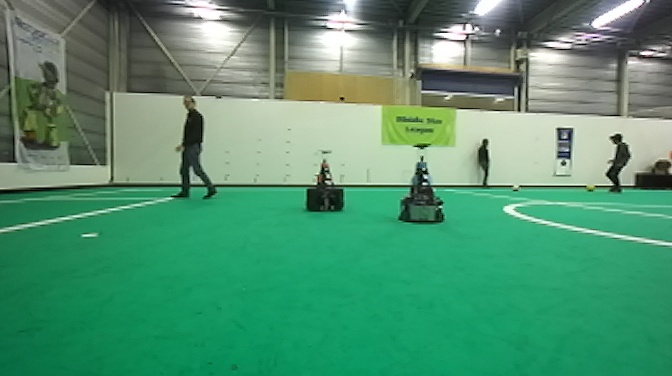ball: (509, 181, 523, 194), (584, 182, 596, 194)
human: (173, 95, 221, 199), (603, 132, 632, 194), (473, 133, 495, 189)
robot: (396, 141, 447, 225), (306, 148, 347, 212)
